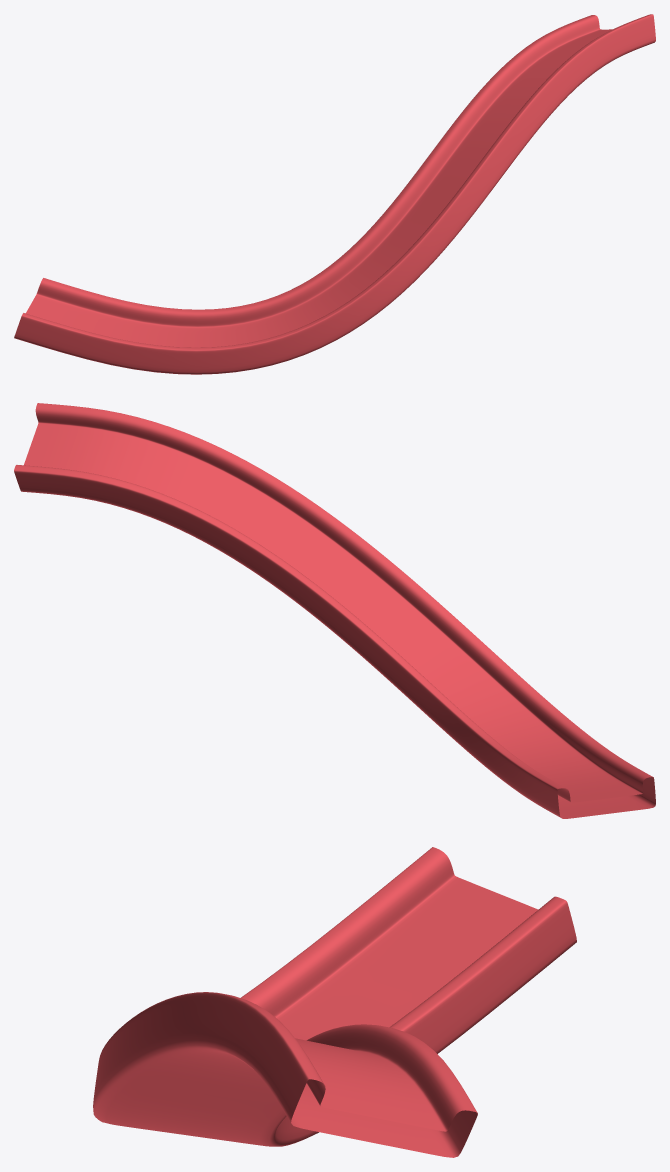
The model's file is rampa_prueba_curveada.gltf.
The picture shows the model from 3 angles, top to bottom: view 1: azimuth 30°, elevation 25°; view 2: azimuth 150°, elevation 25°; view 3: azimuth 270°, elevation 25°; orthographic projection. The views are drawn at different scales.
Visible parts, largest first — view 1: rampa_curveada; view 2: rampa_curveada; view 3: rampa_curveada.
Boxes of the visible parts, x1,y1,x2,y2 form: rampa_curveada: [14, 14, 655, 374]; rampa_curveada: [14, 403, 655, 818]; rampa_curveada: [93, 847, 576, 1157].
Size of what is drawn, in the model's own units: 154 by 55.49 by 53.23.
